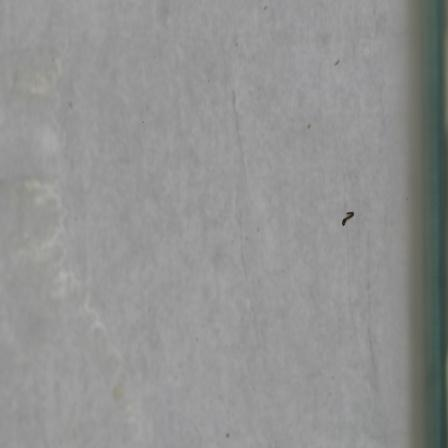Jentik-Nyamuk: (337, 207, 357, 229)
